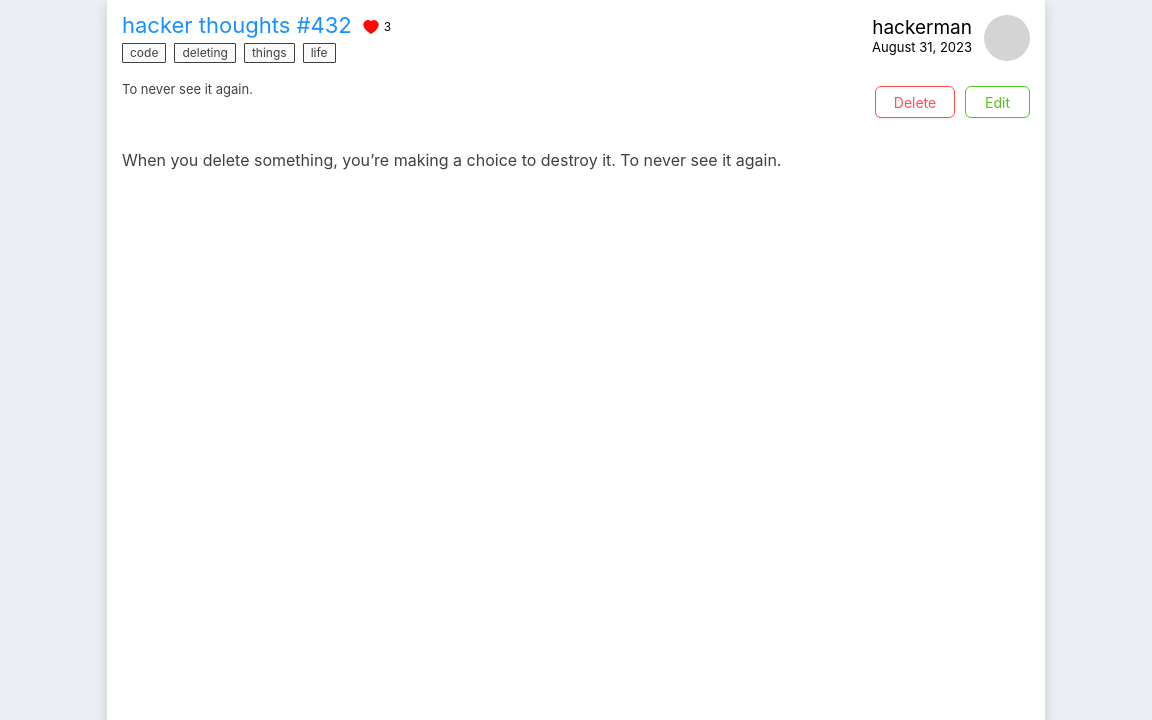
Test: Component: Posts › should decrease likes count when like button is clicked second time
The width and height of the screenshot is (1152, 720).
Click the icon with test id "like-button". click: (371, 26)
box: [363,16,379,36]
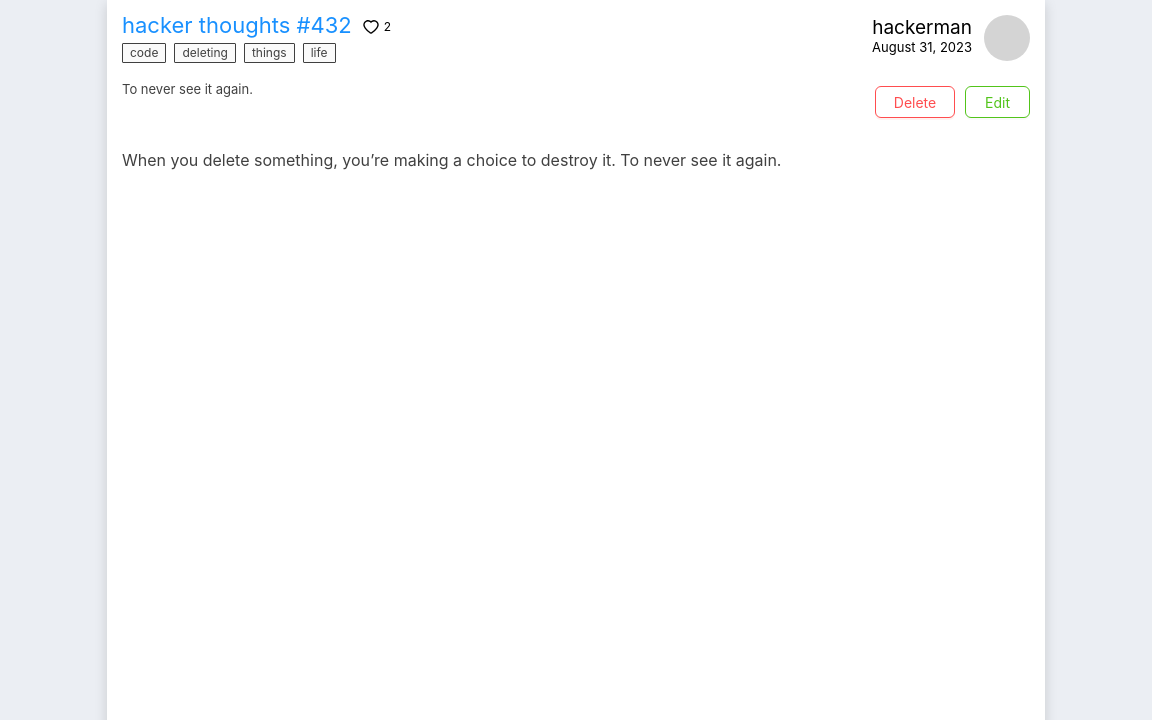
Expected: the text "2" is shown, [384,18,391,36]
